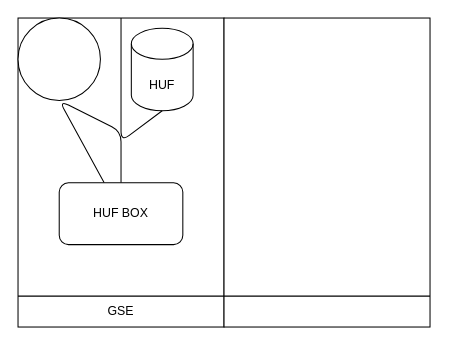
Image size: 449x345. Some labels were removed from this diagram. The box of each missing label's shape, as (x1, y1, x2, y2) in pixels:
MCC: (223, 17, 430, 327)
S-band: (17, 17, 100, 100)
